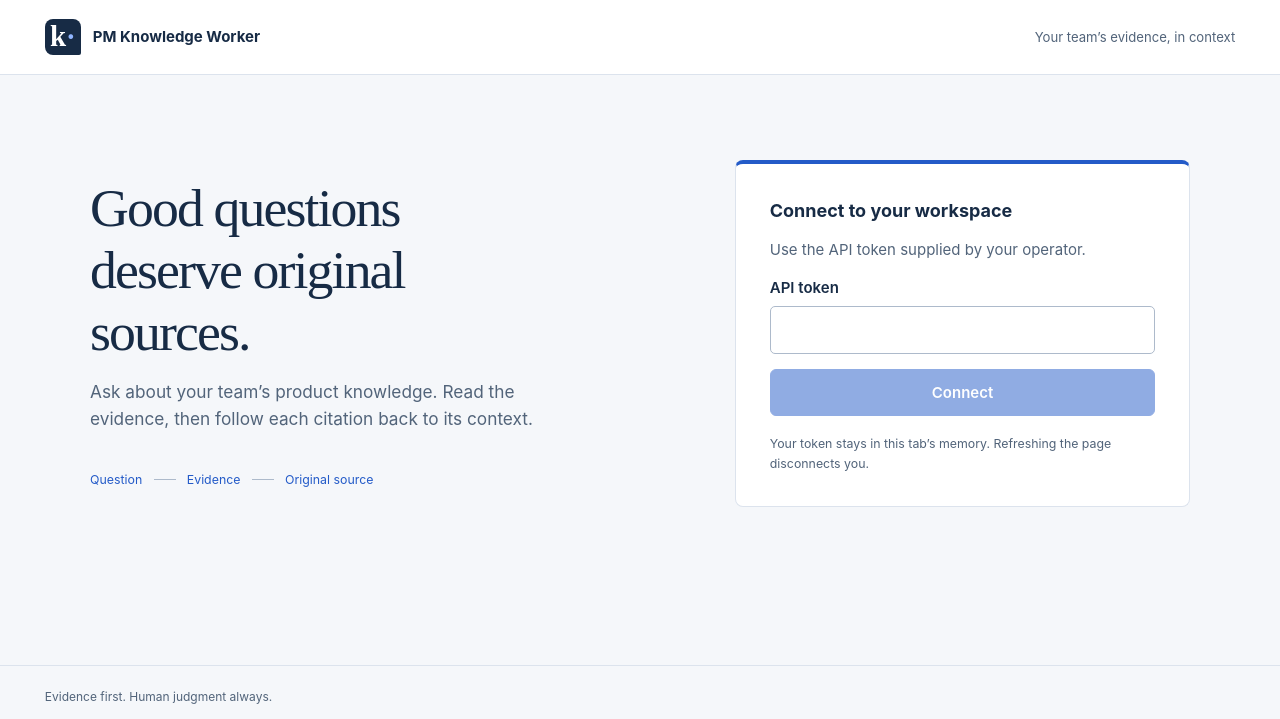
Scenario: limits editor controls and shows decision attribution
Type "synthetic-token" into the password field labelled "API token". click: (963, 330)
box: [770,306,1155,354]
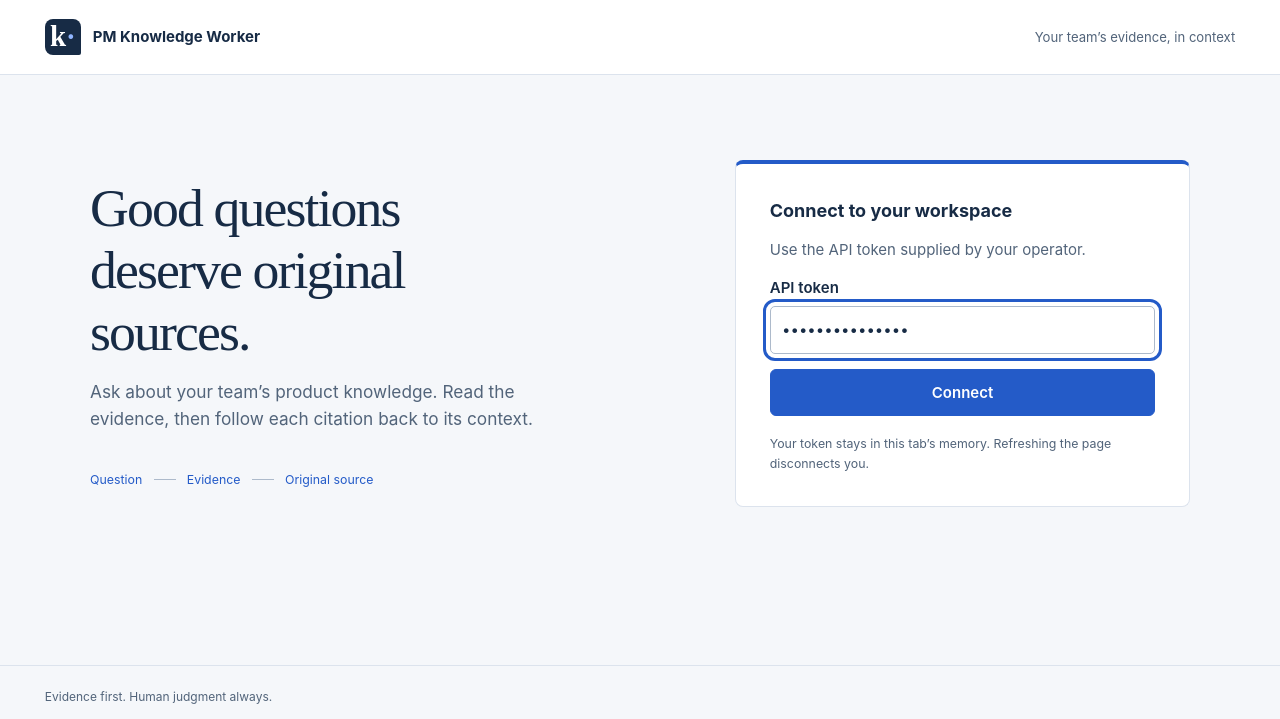
Click the button "Connect". click: (963, 392)
box: [770,369,1155,416]
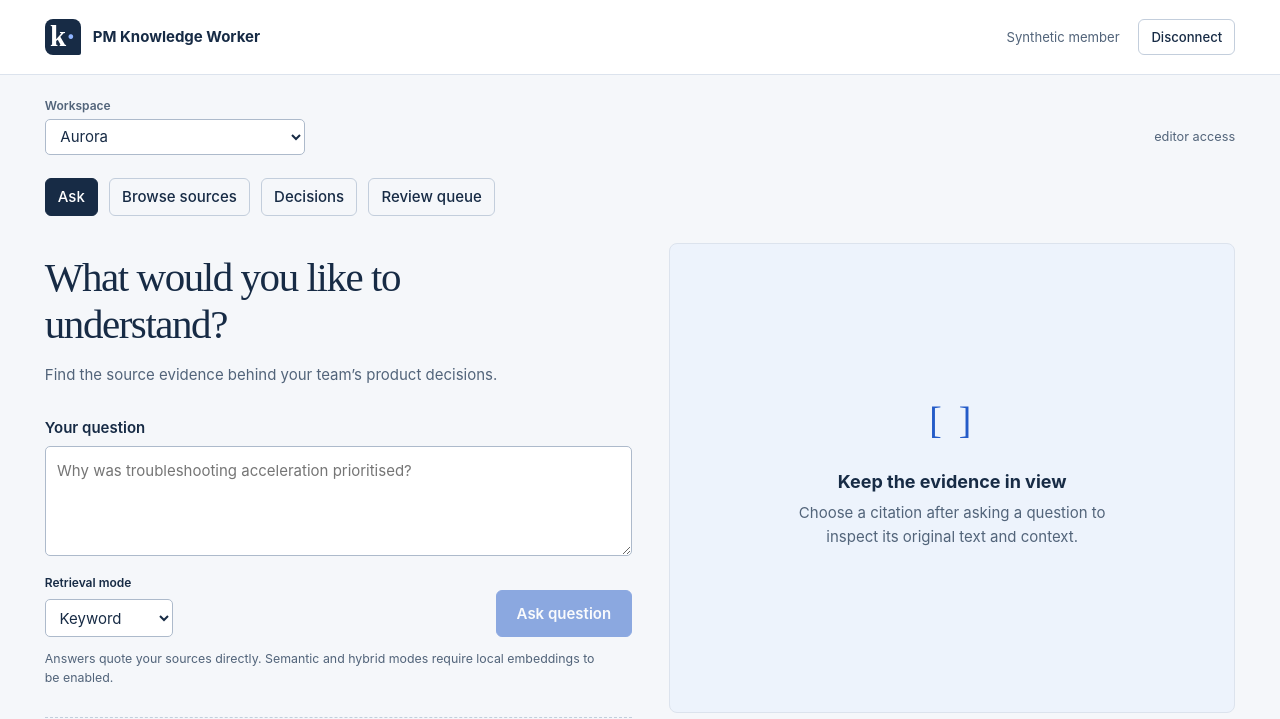
Check: the dropdown labelled "Workspace" is shown, box [45,119,305,155]
Click the button "Decisions". click: (309, 197)
box: [261,178,357,216]
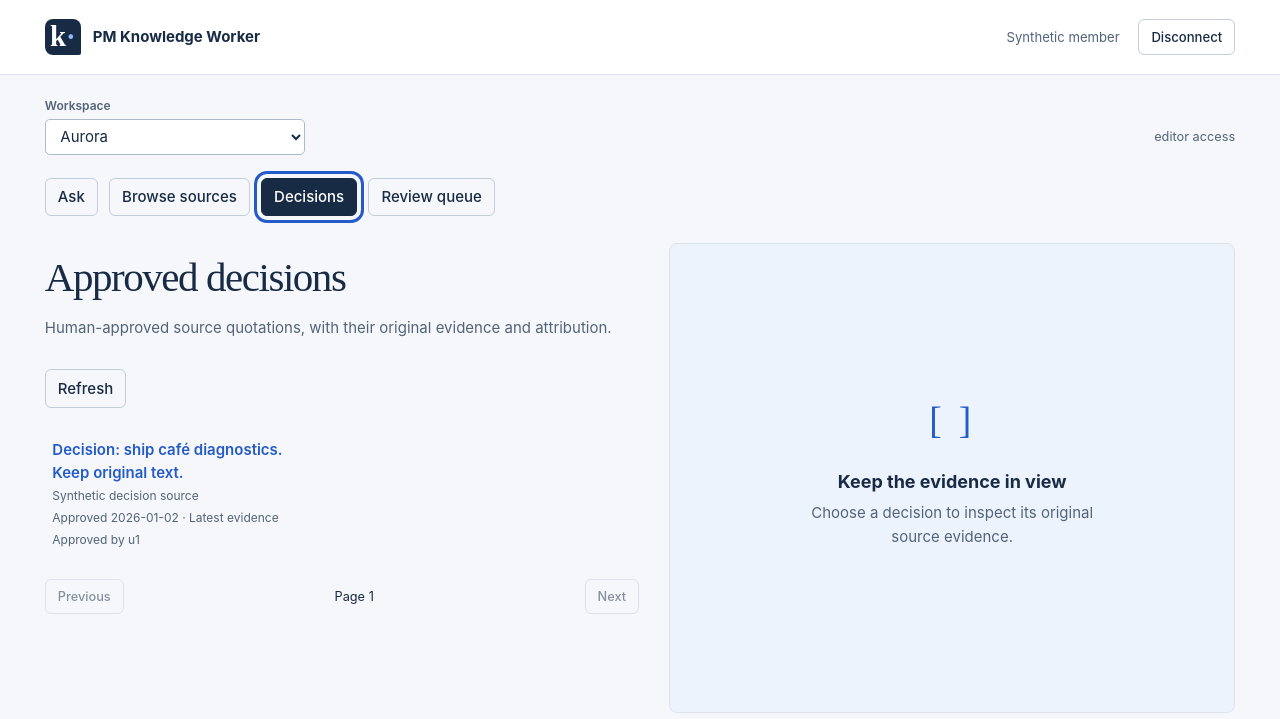
Click the button with aria-label "Open decision d1". click: (167, 449)
box: [45,423,639,564]
(page scrolled)
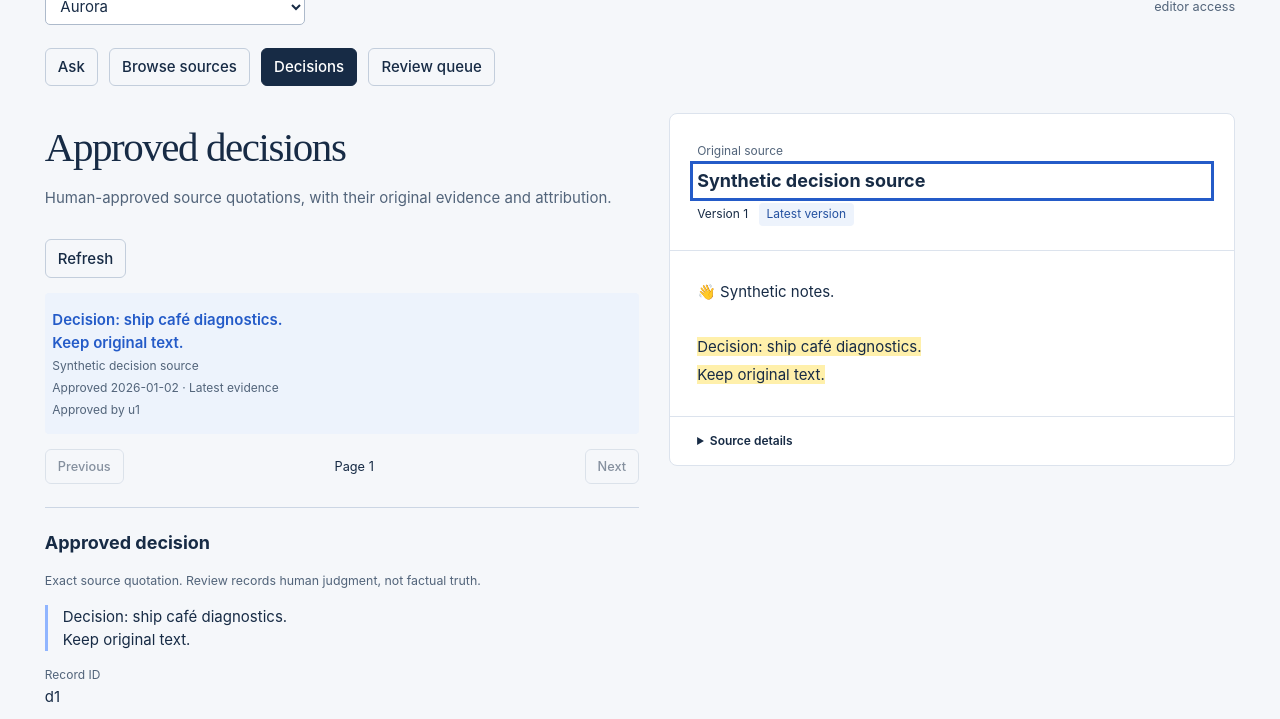
Check: the element with test id "source-text" is shown, box [697,282,921,384]
Click the button "Review queue". click: (432, 67)
box: [368,48,495,86]
(page scrolled)
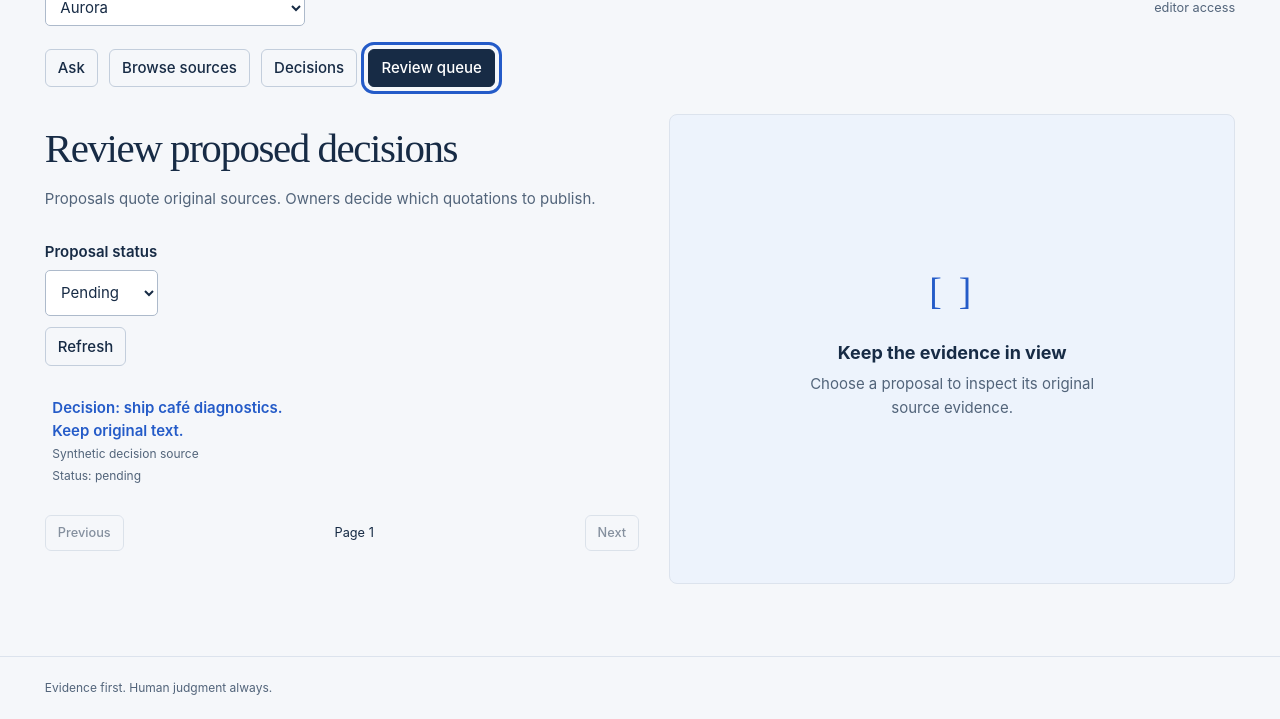
Click the button with aria-label "Open proposal p1". click: (167, 407)
box: [45,381,639,500]
(page scrolled)
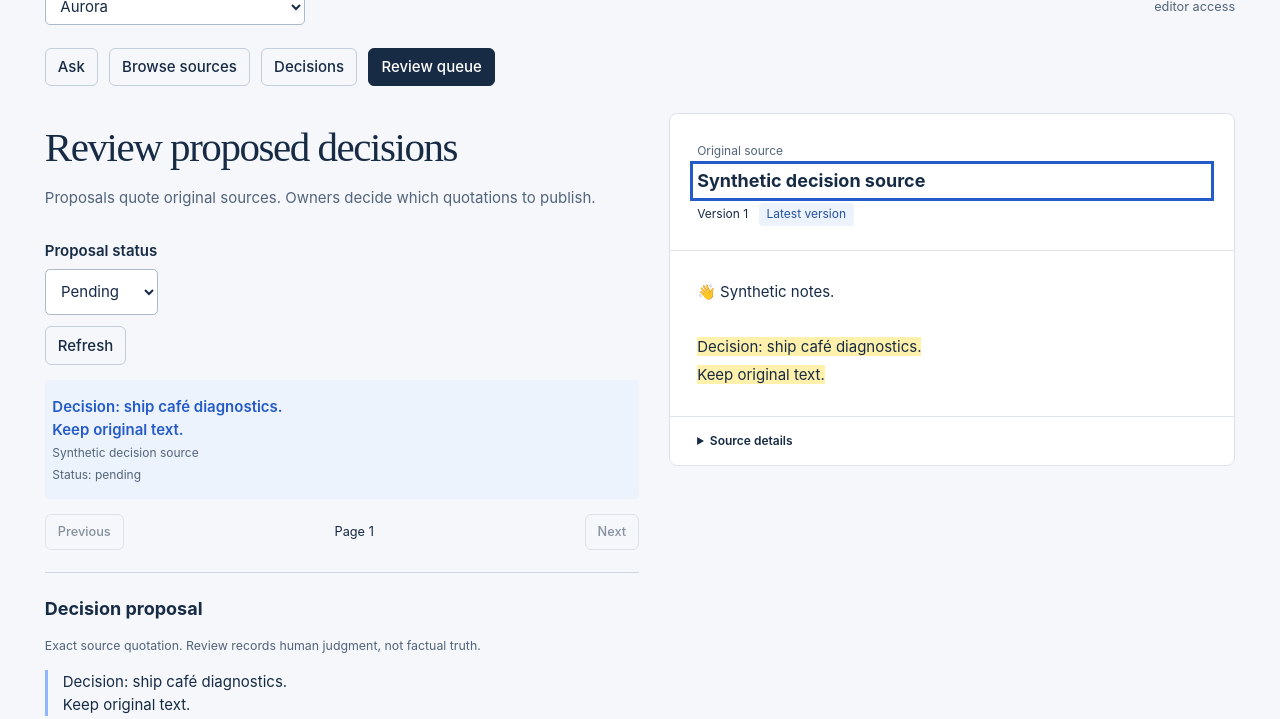
Check: the heading "Approve" is not shown
Check: the element with test id "source-text" is shown, box [697,282,921,384]
